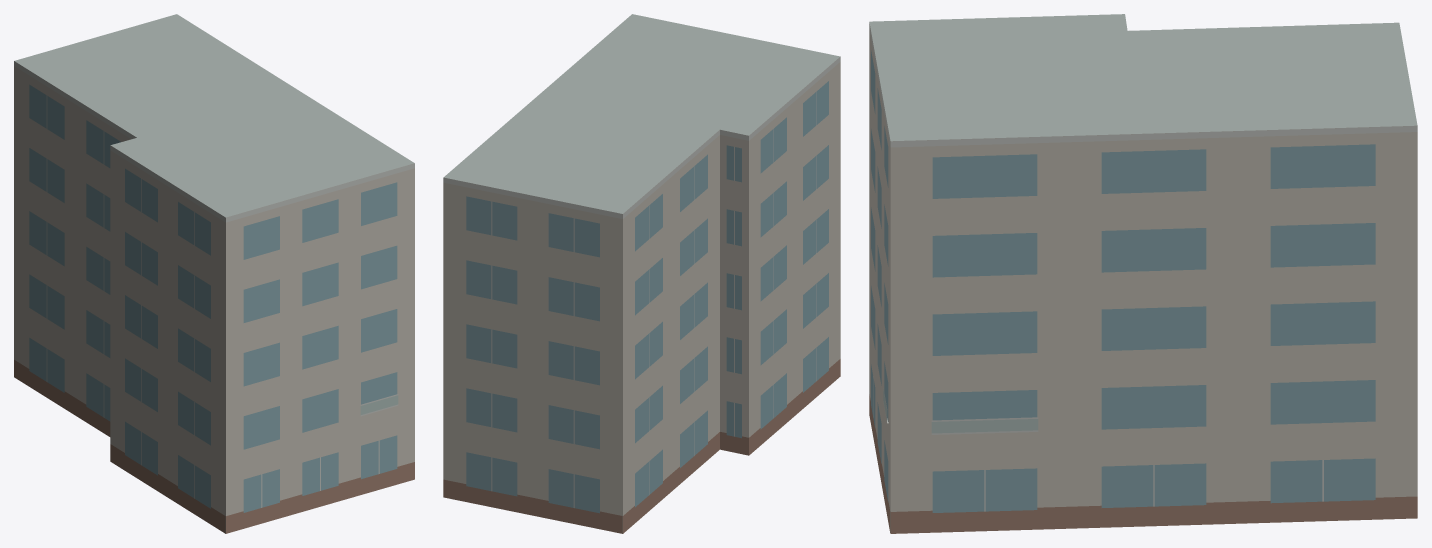
Rendered from survey-upis-32711215.glb.
3 views of the same model, side by side, from view 1: azimuth 30°, elevation 25°; view 2: azimuth 150°, elevation 25°; view 3: azimuth 270°, elevation 25° (orthographic). The views are drawn at different scales.
Visible parts, largest first — view 1: survey-upis-32711215.tmp; view 2: survey-upis-32711215.tmp; view 3: survey-upis-32711215.tmp.
Part boxes in pixels (bbox=[...]): survey-upis-32711215.tmp: bbox=[14, 14, 414, 533]; survey-upis-32711215.tmp: bbox=[443, 14, 840, 533]; survey-upis-32711215.tmp: bbox=[869, 14, 1417, 533].
Bounding box in the file's own units: 10.6 × 15.25 × 19.31.
